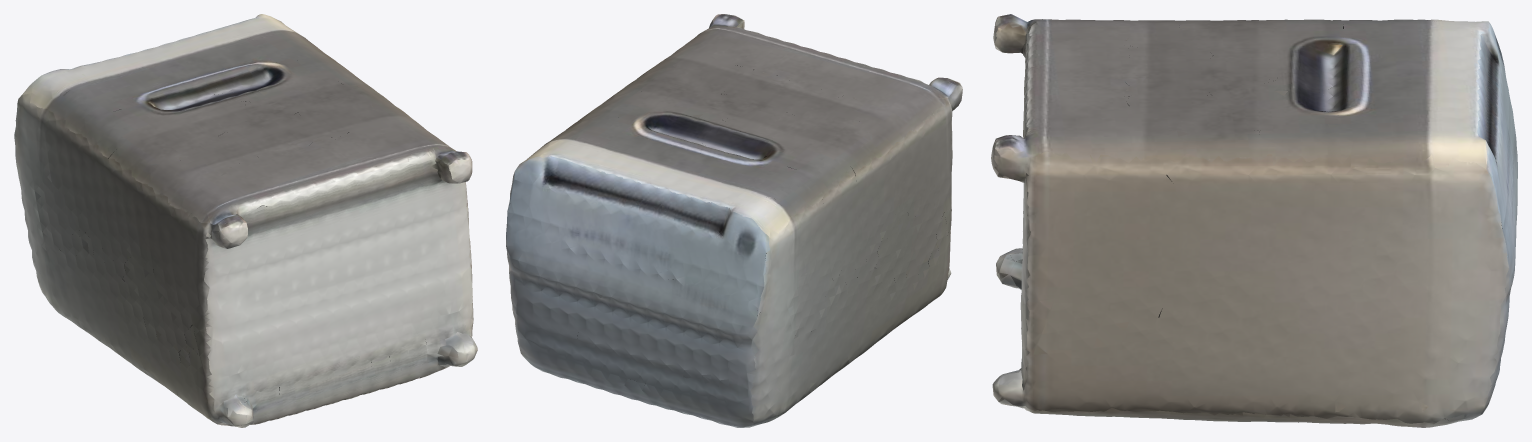
3 renders of one model, left to right at view 1: azimuth 30°, elevation 25°; view 2: azimuth 150°, elevation 25°; view 3: azimuth 270°, elevation 25°, orthographic. The views are drawn at different scales.
Parts seen in each view (by area): view 1: world; view 2: world; view 3: world.
Boxes of the visible parts, <box> form: world: <box>14,14,477,427</box>; world: <box>506,14,962,427</box>; world: <box>991,14,1517,427</box>.
Bounding box in the file's own units: 0.6933 × 0.5833 × 0.9372.
1 material, 1 textured.
